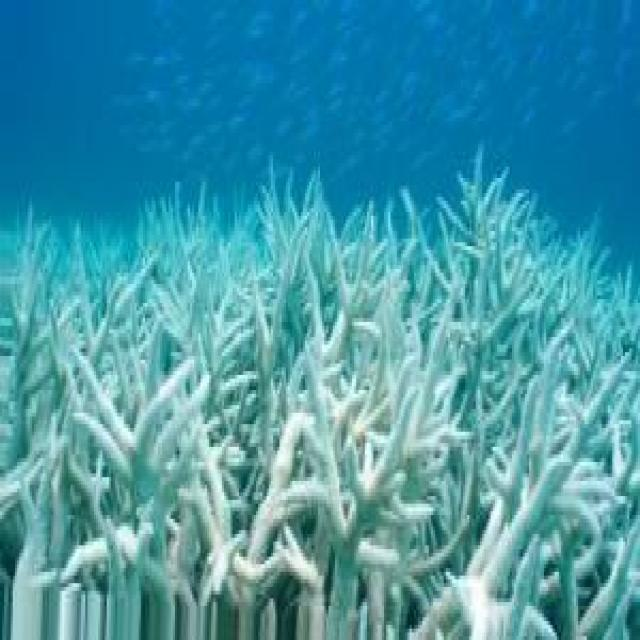bleached coral: (151, 364, 230, 530), (273, 367, 346, 507), (542, 473, 640, 576), (2, 439, 73, 564), (378, 401, 452, 507), (540, 341, 627, 428), (73, 371, 137, 477), (465, 523, 510, 640), (105, 515, 149, 602), (230, 303, 277, 382), (508, 451, 555, 526), (369, 292, 414, 367), (465, 329, 508, 401), (11, 337, 45, 405)
healthy coral: (21, 227, 113, 314), (476, 197, 542, 295), (335, 197, 418, 265), (201, 208, 267, 280), (580, 242, 640, 314), (128, 239, 194, 303), (273, 197, 335, 261), (427, 216, 459, 280)
